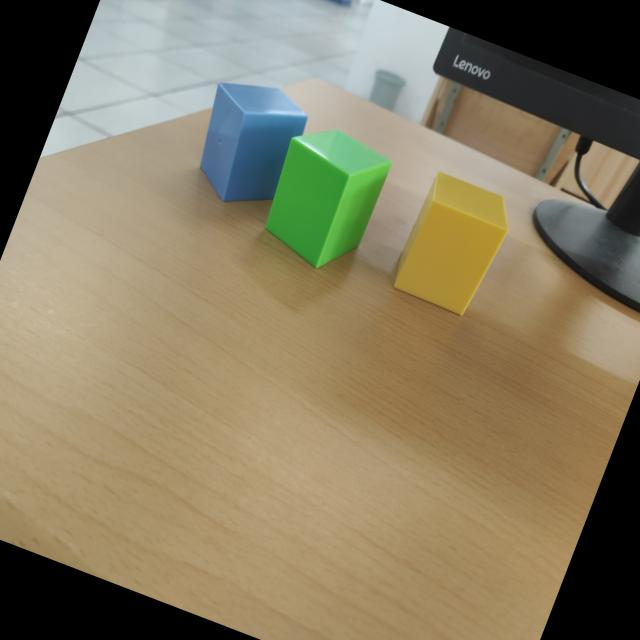blue: (199, 83, 308, 204)
green: (264, 132, 391, 270)
yellow: (392, 173, 507, 317)
